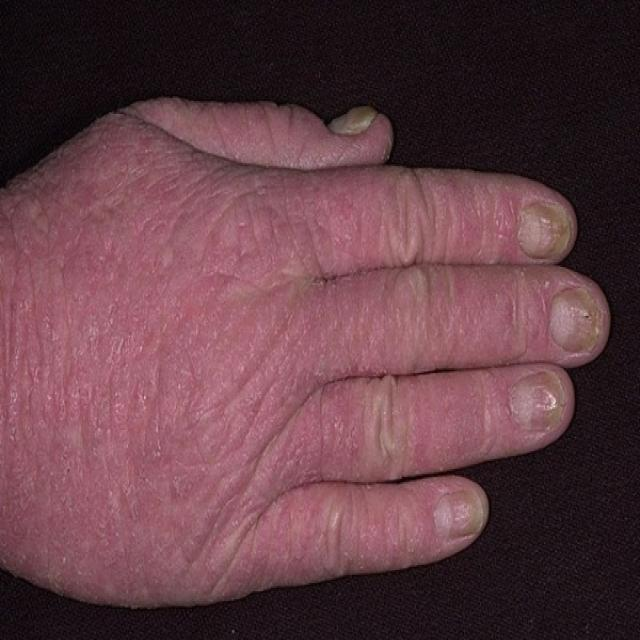Psoriasis Eritrodermica: (0, 99, 610, 603)
